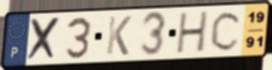3: (139, 9, 168, 60), (62, 14, 93, 60)
C: (209, 10, 244, 53)
H: (174, 9, 211, 56)
K: (104, 15, 133, 57)
X: (26, 16, 63, 63)
